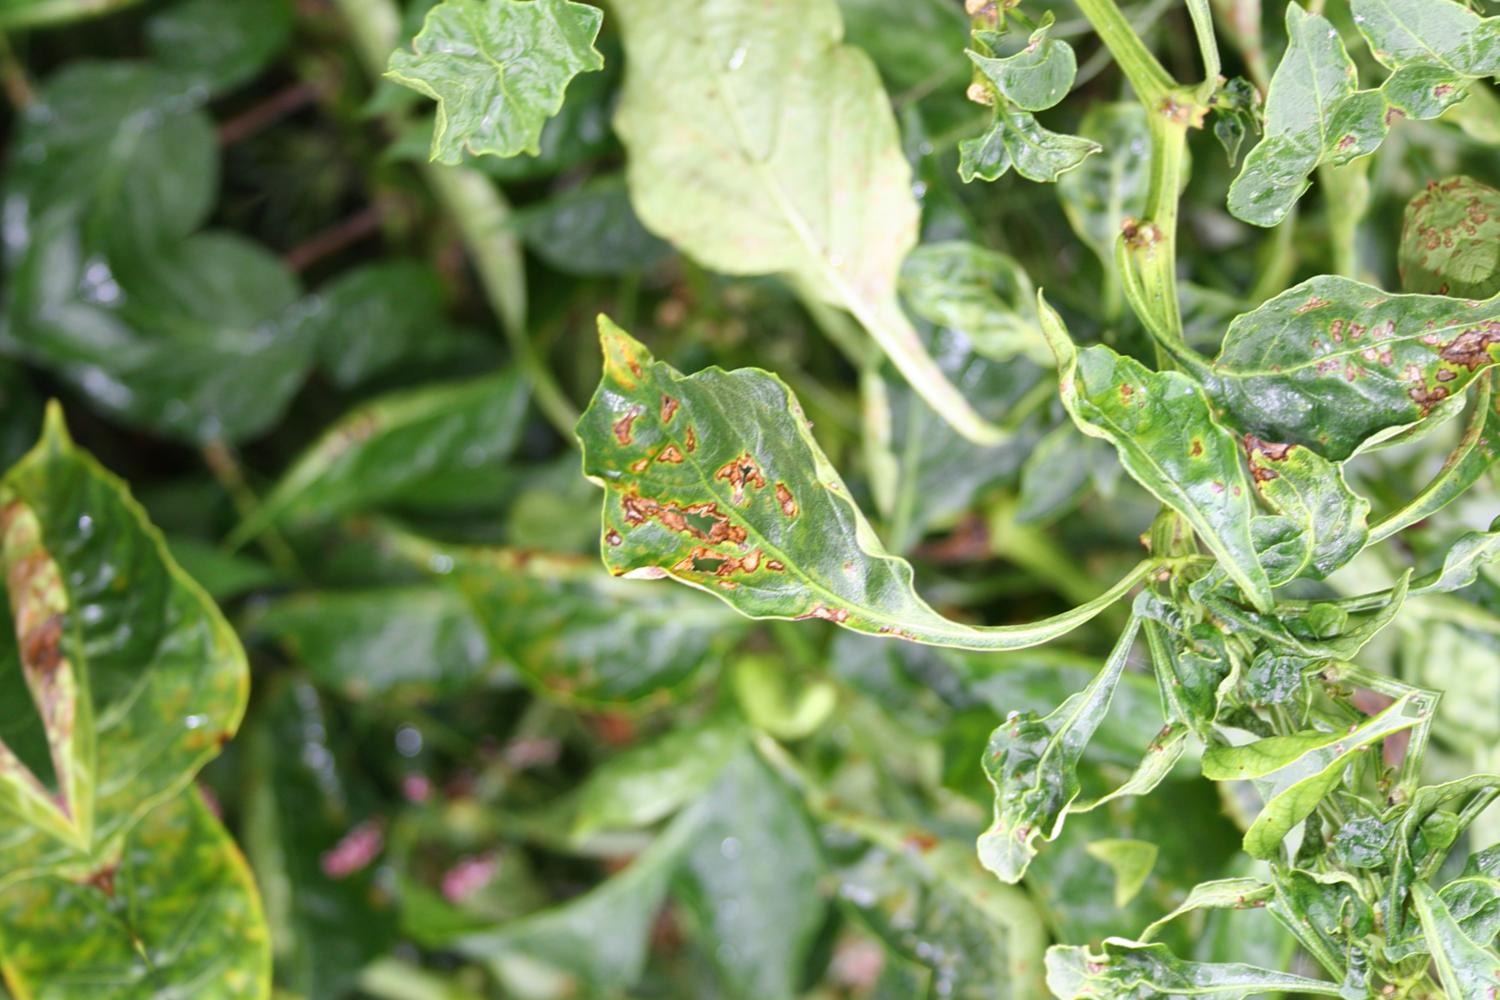Tomato leaf bacterial spot: (477, 212, 1003, 791), (0, 354, 325, 873), (1011, 285, 1317, 643), (1203, 210, 1500, 531)
